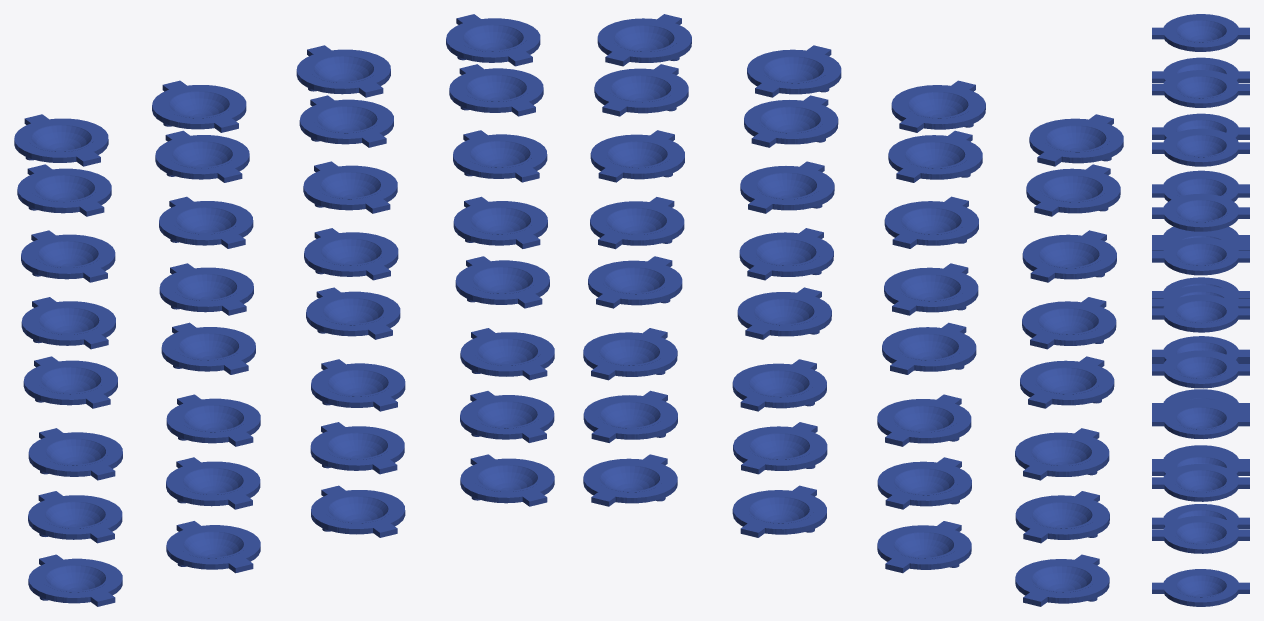
The model's file is tinker.obj.
3 renders of one model, left to right at view 1: azimuth 30°, elevation 25°; view 2: azimuth 150°, elevation 25°; view 3: azimuth 270°, elevation 25°, orthographic. The views are drawn at different scales.
Parts seen in each view (by area): view 1: obj_0; view 2: obj_0; view 3: obj_0.
Boxes of the visible parts, bbox=[...] form: obj_0: bbox=[14, 14, 554, 606]; obj_0: bbox=[583, 14, 1123, 606]; obj_0: bbox=[1152, 14, 1249, 606].
Bounding box in the file's own units: 106 × 89.37 × 20.41.
